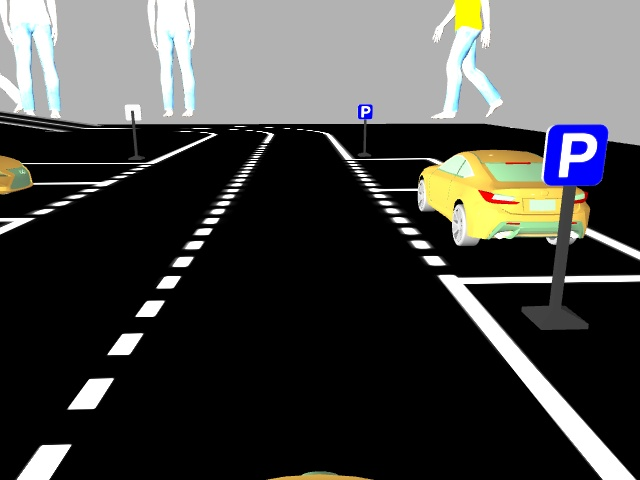Parking: (540, 121, 608, 187), (355, 102, 373, 120)
